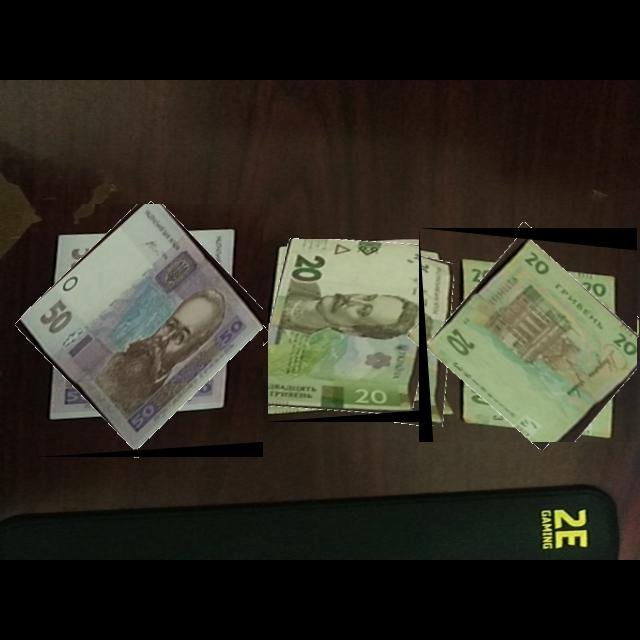20uah: (426, 238, 638, 443), (268, 239, 447, 414)
50uah: (22, 204, 264, 453)
